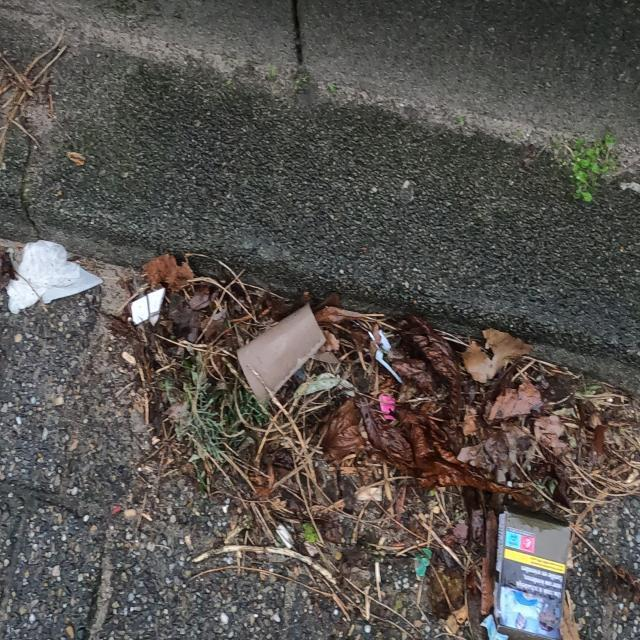Paper: (479, 503, 573, 640), (3, 238, 102, 317)
